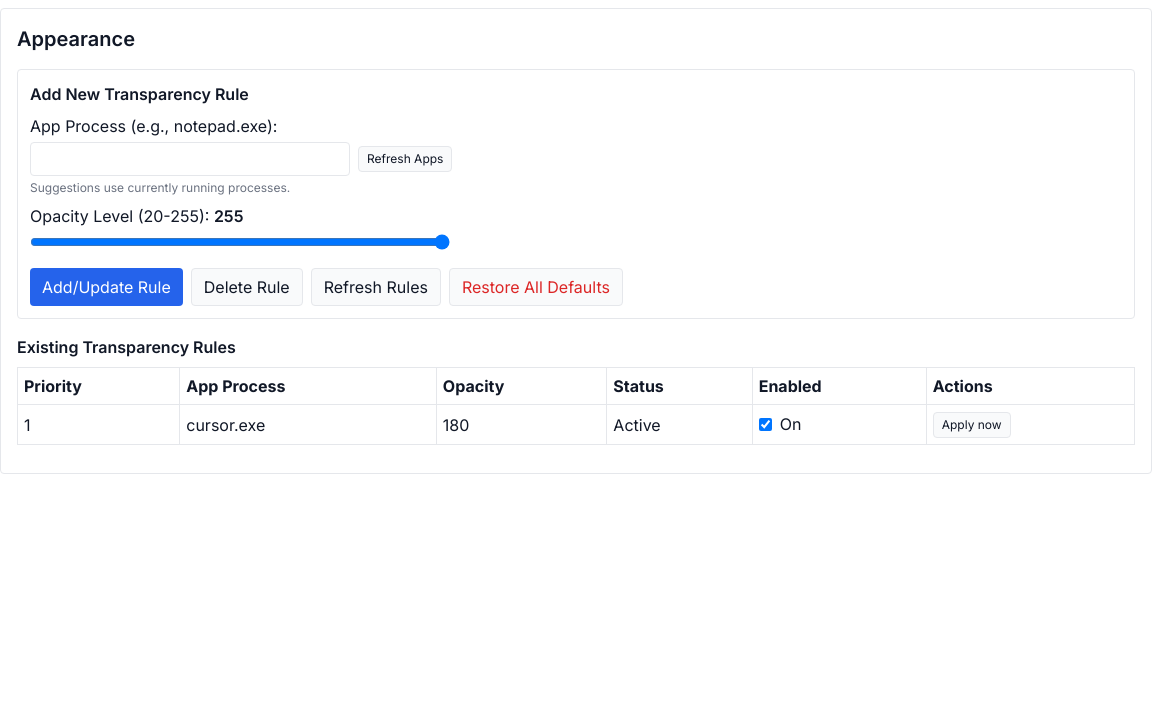
AppearanceTab › toggles enabled state for a rule
Click the checkbox.
click(765, 424)  # box x1=759 y1=418 x2=772 y2=431
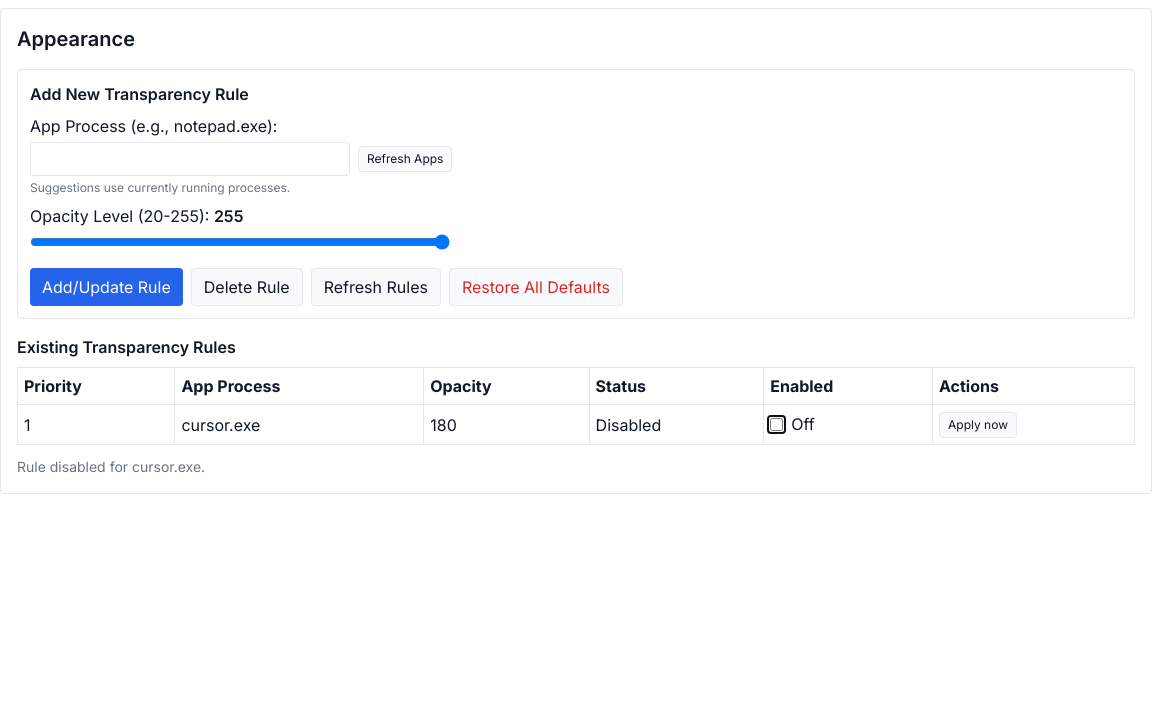
Expected: the text "Rule disabled for cursor.exe." is shown, x1=17 y1=458 x2=205 y2=475
